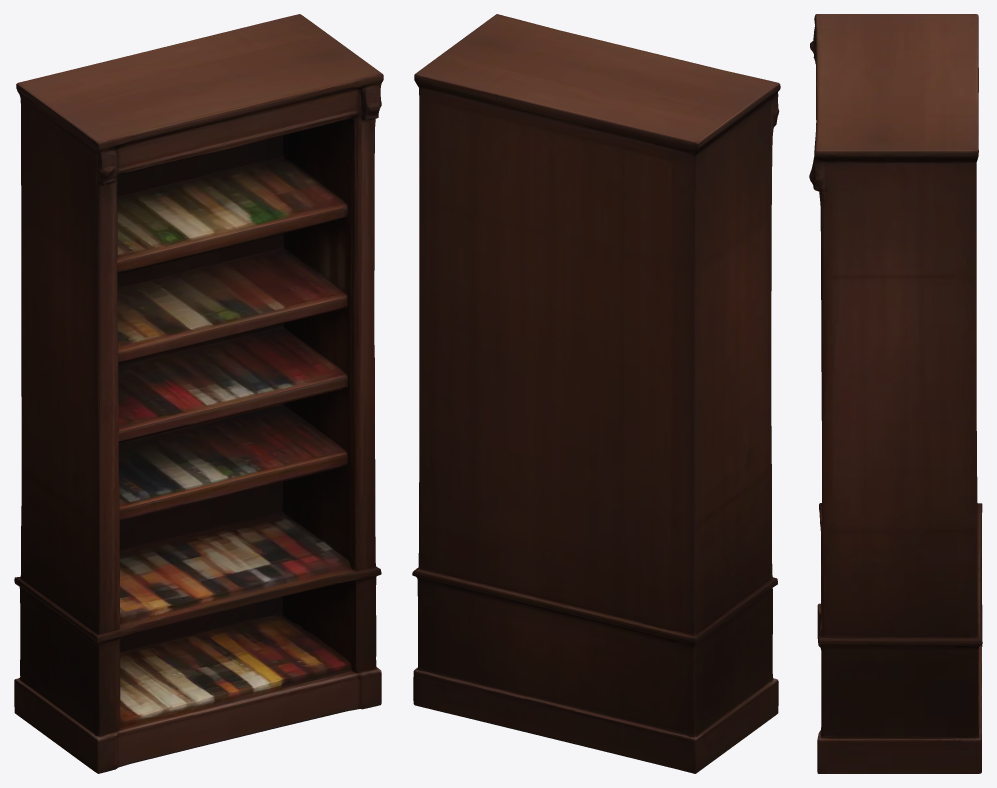
The picture shows the model from 3 angles, left to right: view 1: azimuth 30°, elevation 25°; view 2: azimuth 150°, elevation 25°; view 3: azimuth 270°, elevation 25°; orthographic projection.
Visible parts, largest first — view 1: geometry_0; view 2: geometry_0; view 3: geometry_0.
Boxes of the visible parts, x1=… form: geometry_0: x1=14, y1=14, x2=383, y2=773; geometry_0: x1=412, y1=14, x2=780, y2=773; geometry_0: x1=809, y1=14, x2=982, y2=773.
Bounding box in the file's own units: 0.4729 × 1 × 0.2518.
1 material, 1 textured.
